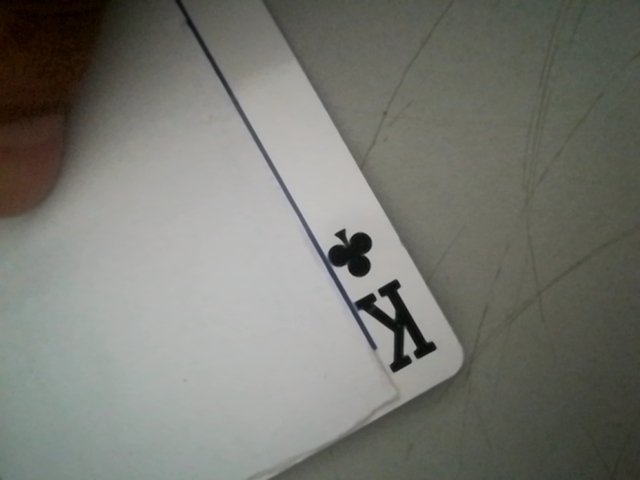mh k: (314, 216, 453, 387)
